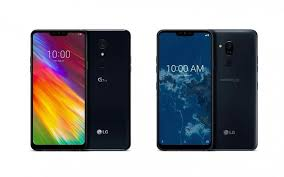lg: (26, 24, 134, 157), (153, 24, 261, 157)
